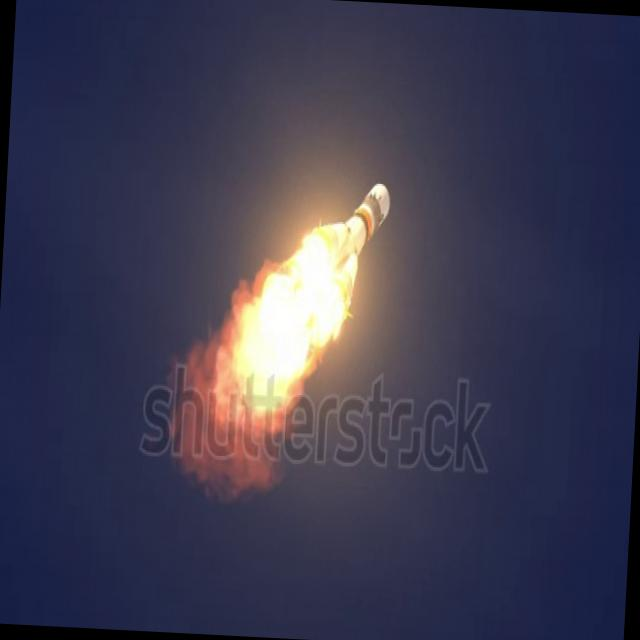rocket: (248, 175, 389, 378)
